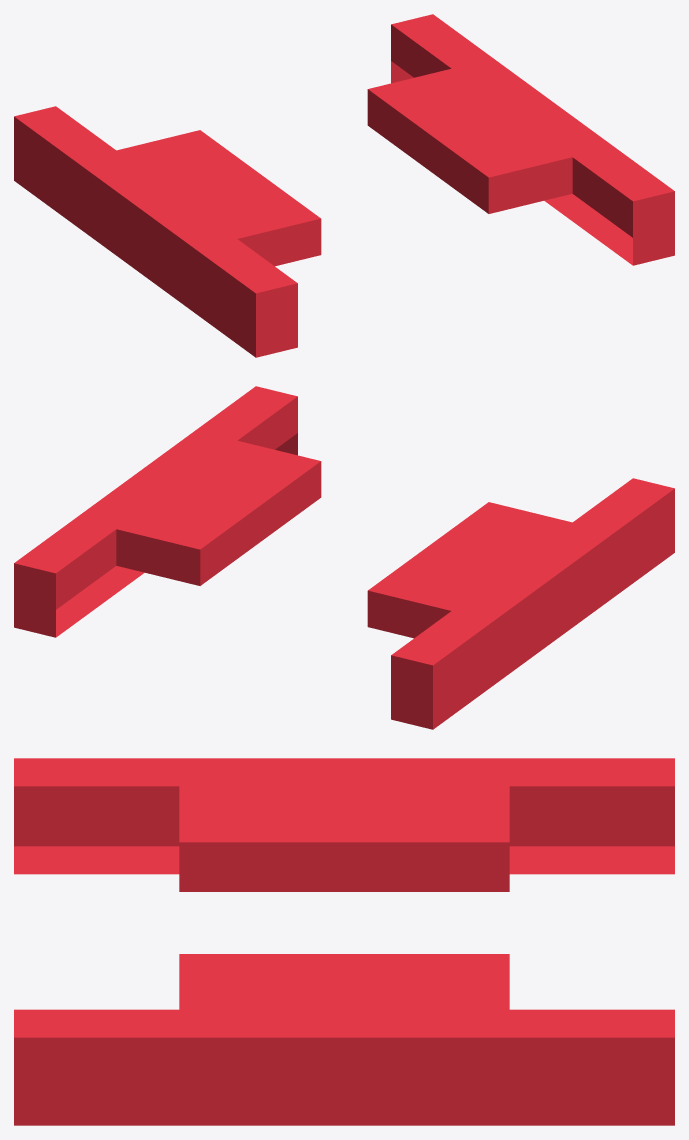
File: Paredes 4.FBX
The picture shows the model from 3 angles, top to bottom: view 1: azimuth 30°, elevation 25°; view 2: azimuth 150°, elevation 25°; view 3: azimuth 270°, elevation 25°; orthographic projection. The views are drawn at different scales.
Visible parts, largest first — view 1: narrowBlock; view 2: narrowBlock; view 3: narrowBlock.
Boxes of the visible parts, bbox=[...] form: narrowBlock: bbox=[14, 14, 674, 357]; narrowBlock: bbox=[14, 386, 674, 729]; narrowBlock: bbox=[14, 758, 674, 1125].
Size of the model in its own units: 99.99 by 14.67 by 99.99.
